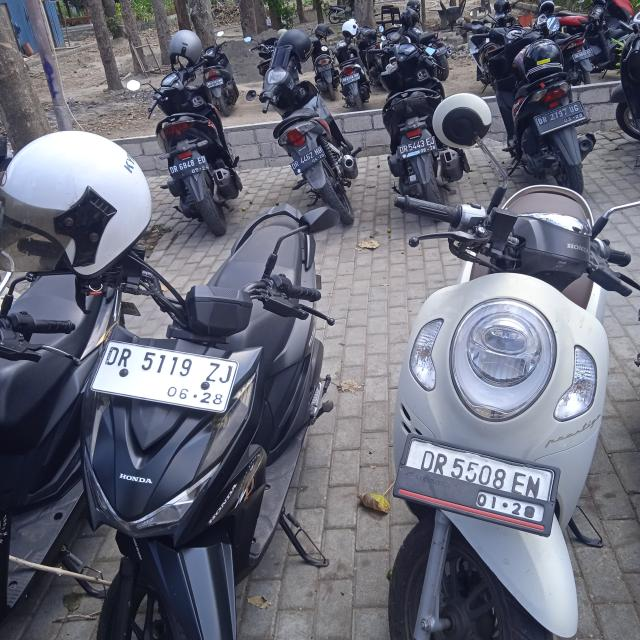plate: (404, 436, 555, 526), (87, 338, 240, 416), (533, 98, 591, 137), (290, 144, 326, 176), (169, 154, 210, 181), (397, 134, 438, 161)
